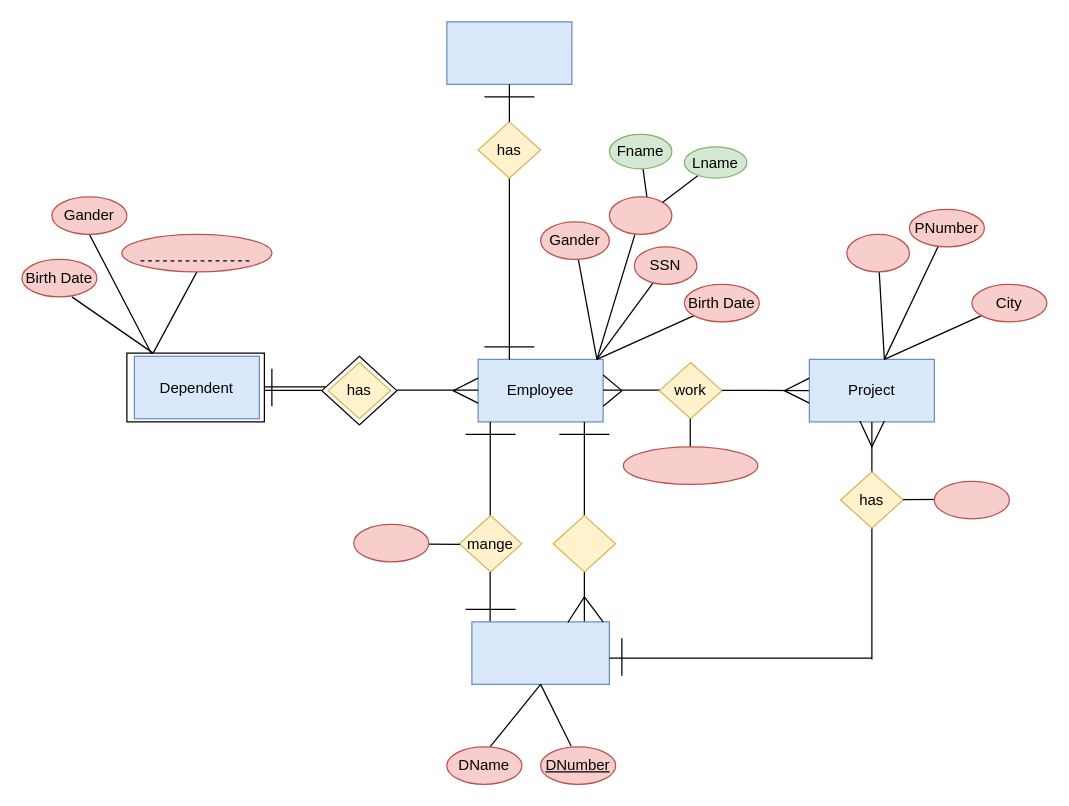
Image size: 1069x806. Some labels were removed from this diagram. Here are the shapes that lost their labels. From the top down, the centre of each, then its label:
At point 509,52: "Supervisor".
At point 640,215: "Name".
At point 196,252: "Dependent Name".
At point 877,252: "PName".
At point 690,465: "Number working hours for each project".
At point 971,499: "Location".
At point 390,542: "Hire date".
At point 584,543: "assign".
At point 540,652: "Department".
